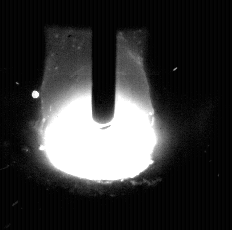arame: (93, 0, 116, 129)
poca: (43, 0, 157, 230)
